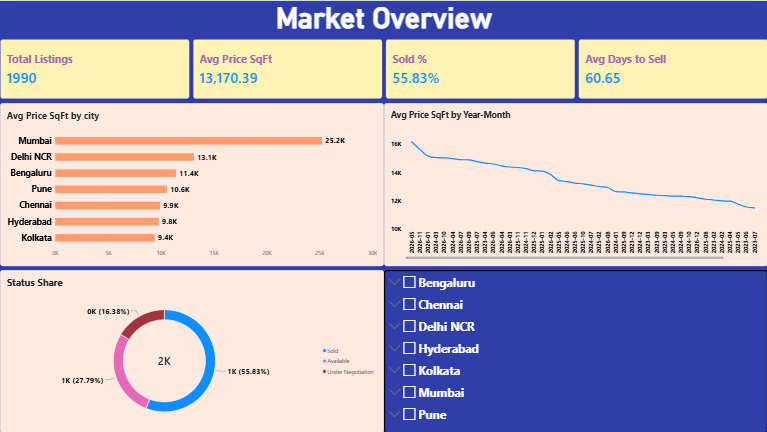

This screenshot's page, from the dashboard's own definition file:
{"tool":"powerbi","page":{"name":"Market Overview","canvas":[1920,1080],"ordinal":0},"visuals":[{"type":"textbox","title":"Market Overview","box":[0,0,1920,96],"z":0},{"type":"cardVisual","fields":{"Data":["_Measures.Total Listings","_Measures.Avg Price SqFt","_Measures.Sold %","_Measures.Avg Days to Sell"]},"box":[0,96,1920,150],"z":1000},{"type":"barChart","title":"Avg Price SqFt by city","fields":{"Category":["Real_estate clean.City"],"Y":["_Measures.Avg Price SqFt"]},"box":[0,256,960,408],"z":2000},{"type":"lineChart","title":"Avg Price SqFt by Year-Month","fields":{"Category":["Real_estate clean.Year-Month"],"Y":["_Measures.Avg Price SqFt"]},"box":[960,256,960,408],"z":3000},{"type":"donutChart","title":"Status Share","fields":{"Category":["Real_estate clean.Status"],"Y":["_Measures.Total Listings"]},"box":[0,672,960,408],"z":4000},{"type":"slicer","fields":{"Values":["Real_estate clean.City","Real_estate clean.Property_Type","Real_estate clean.Listing_Year"]},"box":[960,672,960,408],"z":5000}]}

Visuals, with their boxes in screenshot pixels (x1, y1, x2, y2), scaled from the page's 1920x1080 canvas onto the 767x432 screenshot:
"Market Overview" textbox: BBox(0, 0, 766, 38)
cardVisual - _Measures.Total Listings x _Measures.Avg Price SqFt: BBox(0, 38, 766, 98)
"Avg Price SqFt by city" barChart: BBox(0, 102, 384, 266)
"Avg Price SqFt by Year-Month" lineChart: BBox(384, 102, 766, 266)
"Status Share" donutChart: BBox(0, 269, 384, 431)
slicer - Real_estate clean.City x Real_estate clean.Property_Type: BBox(384, 269, 766, 431)
